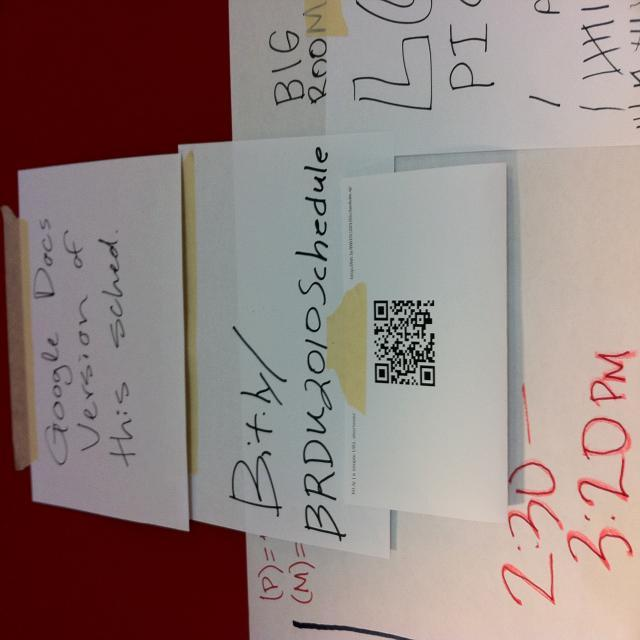qrcode: (375, 301, 436, 387)
